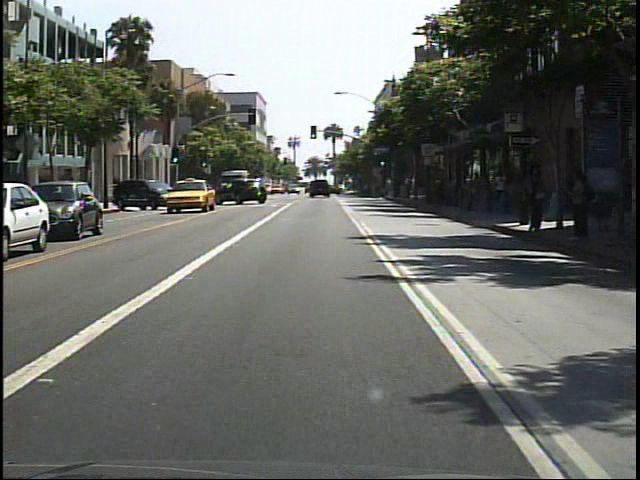person: (561, 167, 595, 243), (518, 160, 549, 238), (489, 167, 508, 210)
